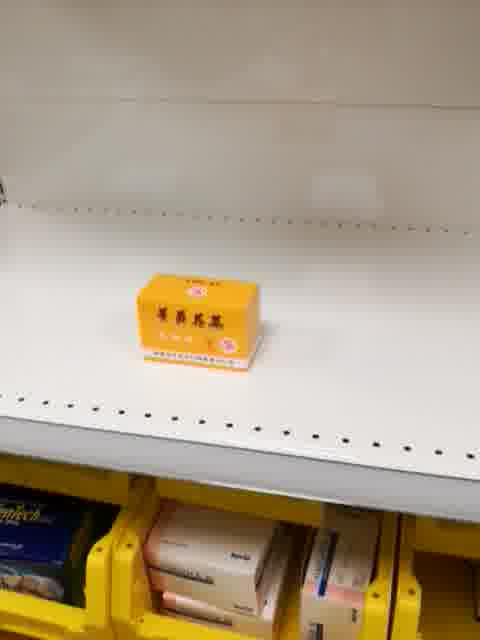jasminetea: (135, 270, 262, 375)
